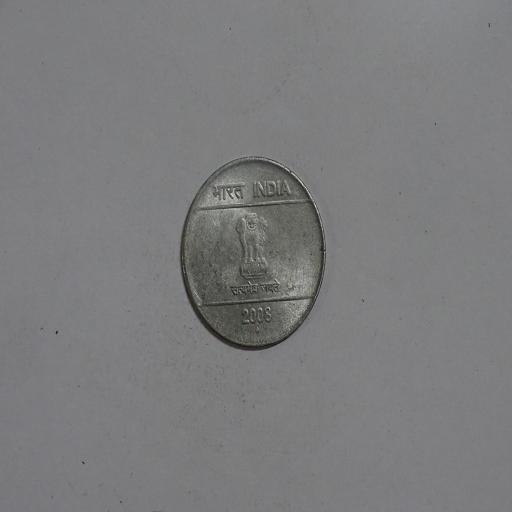rupee2: (175, 155, 329, 356)
